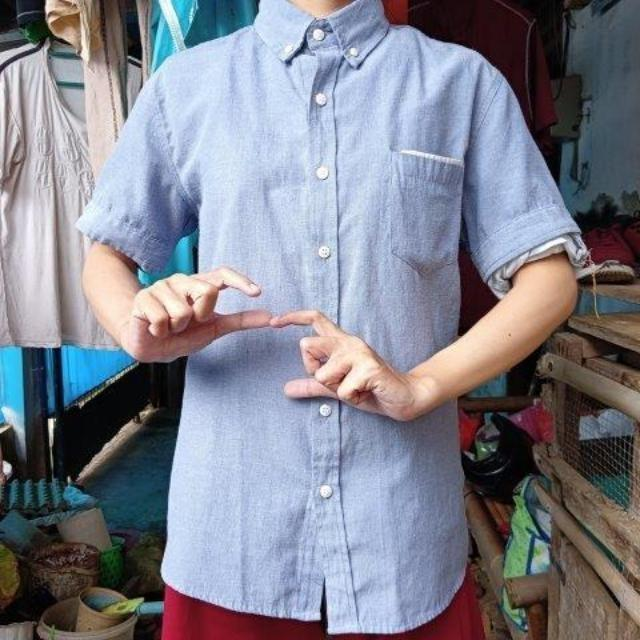S: (182, 250, 364, 416)
